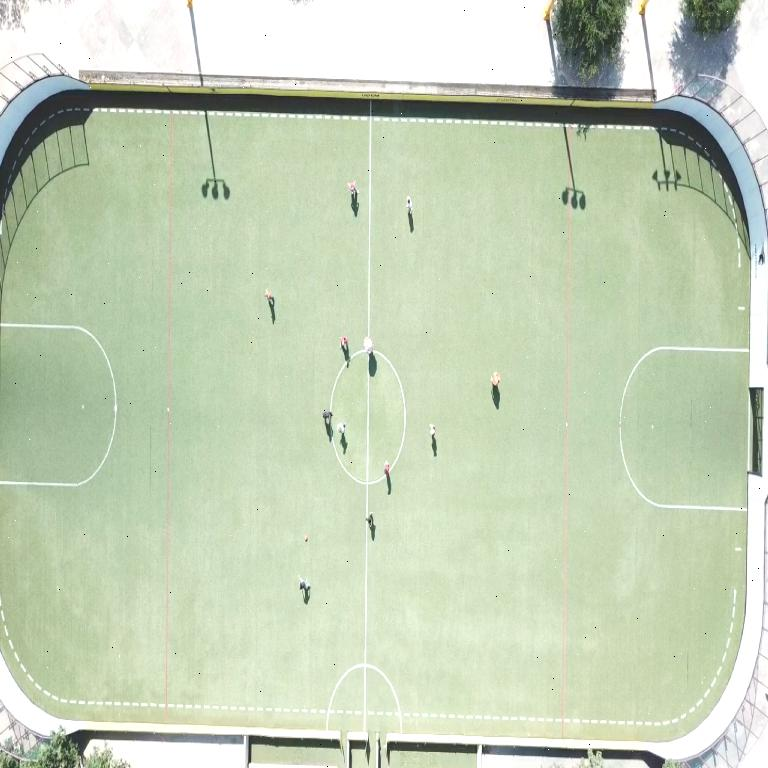AC: (619, 346, 748, 511), (0, 324, 117, 488)
B: (304, 534, 307, 541)
MC: (363, 366, 370, 730)
P: (300, 576, 310, 593), (265, 288, 274, 305), (364, 337, 373, 354), (348, 182, 357, 198), (491, 373, 500, 388), (323, 411, 332, 424), (340, 336, 348, 350), (407, 197, 412, 216), (430, 424, 436, 438), (366, 514, 372, 527), (339, 424, 345, 436), (384, 462, 389, 476)
